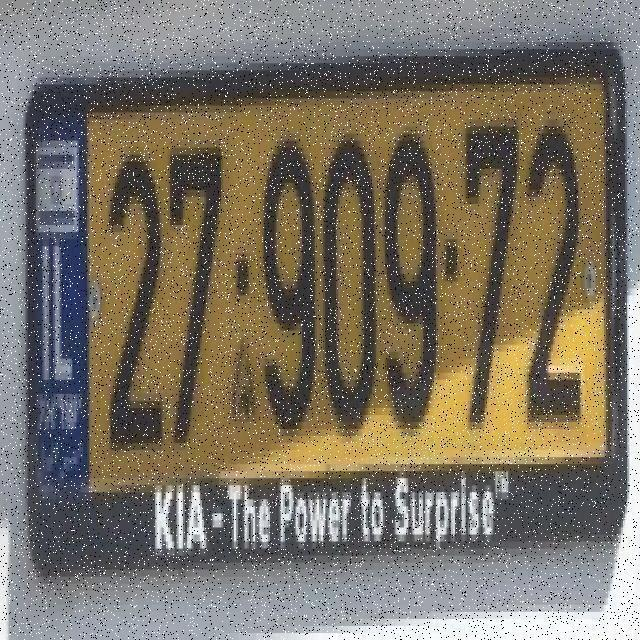License Plate: (13, 21, 637, 592)
